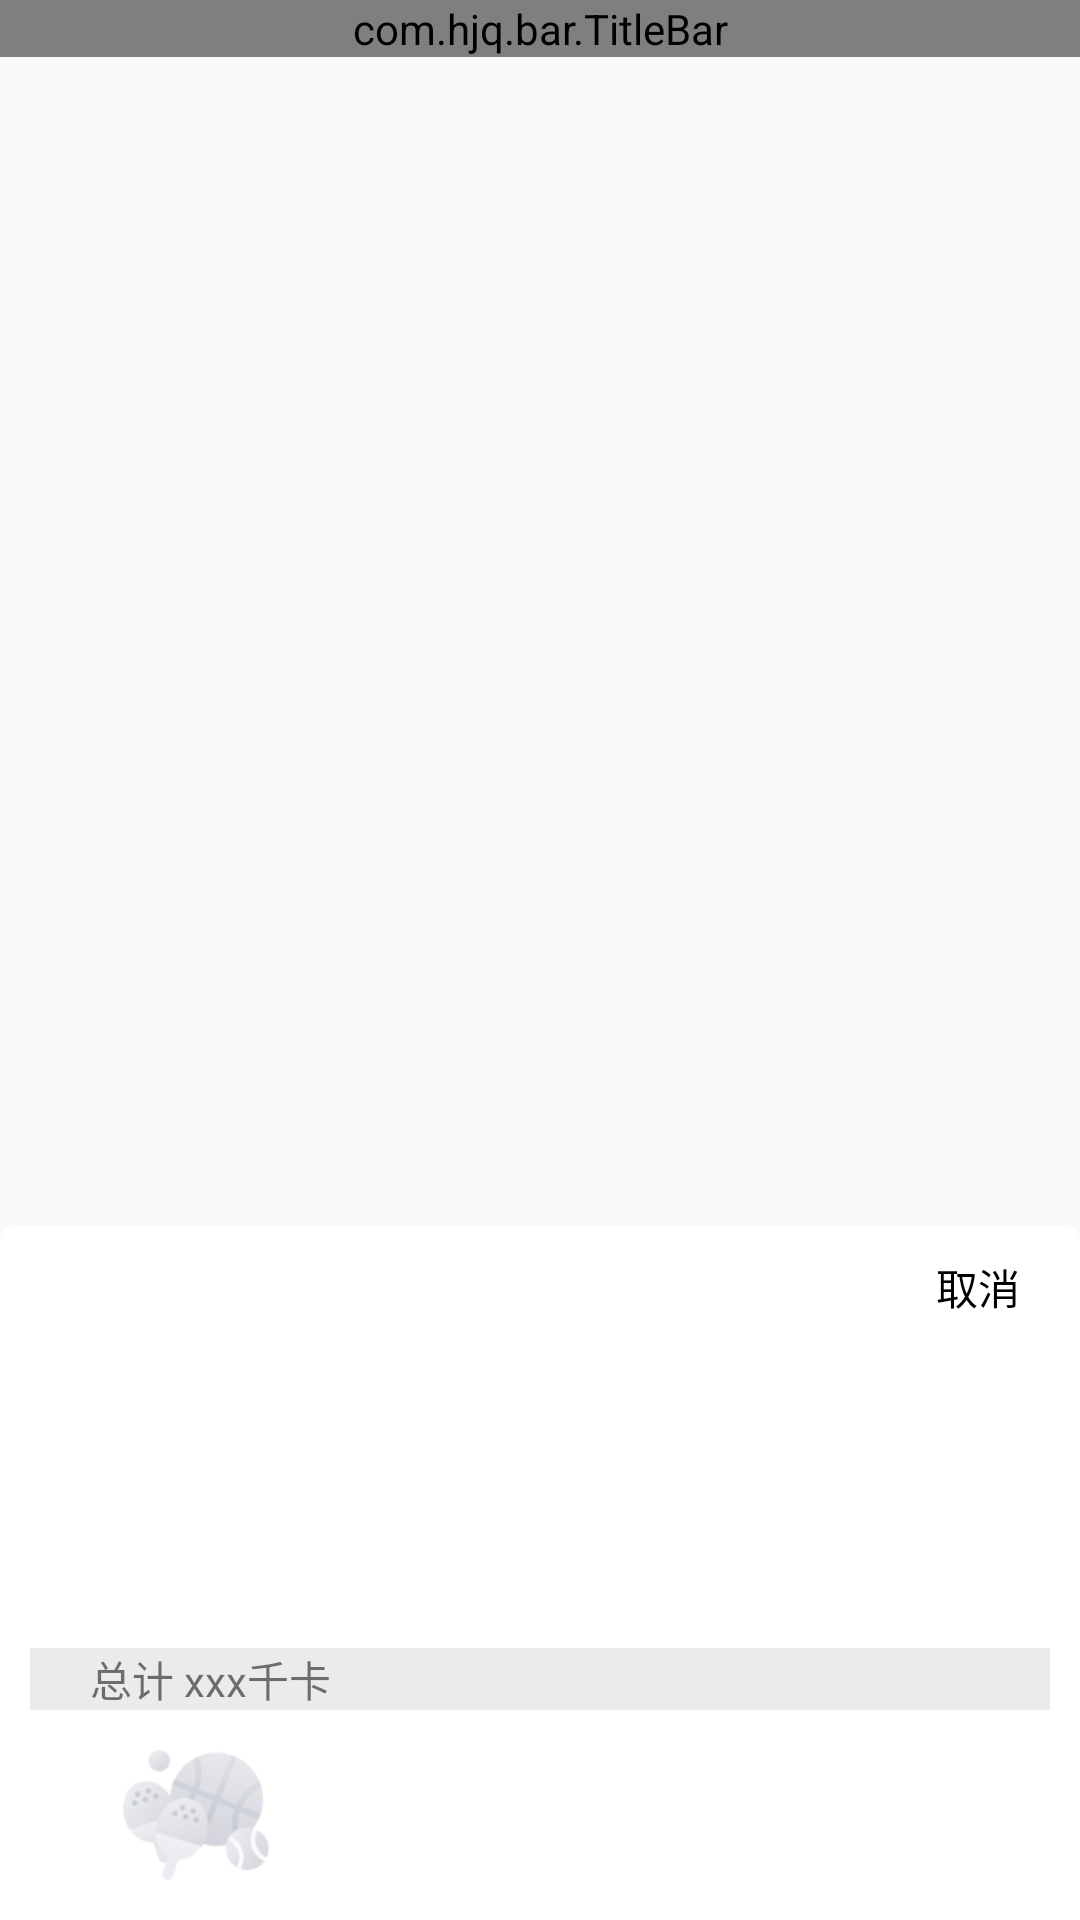

Where to tap for icons on this 1080×1920 app screen, as (x,y):
sportlist: (197,1811)
